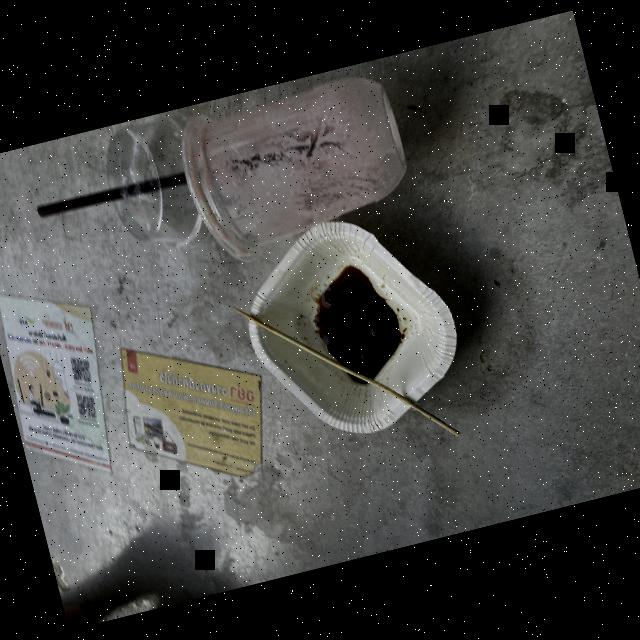cardboard_bowl: (217, 196, 490, 458)
plastic_cup: (166, 64, 425, 282)
plastic_cup_lid: (92, 106, 218, 260)
stick: (241, 263, 462, 479)
straw: (27, 162, 201, 224)
